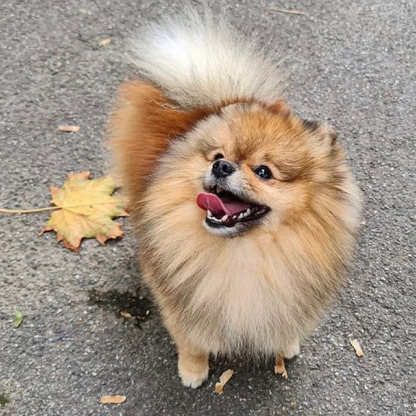Pomeranian: (102, 23, 373, 389)
